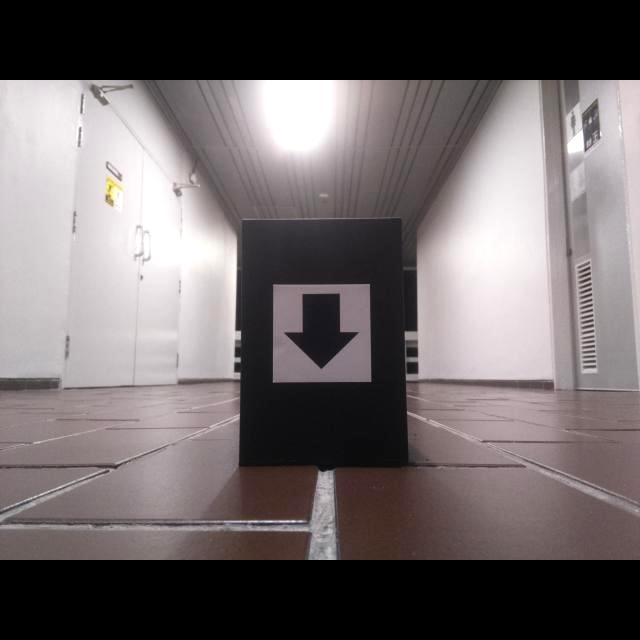DOWN: (282, 293, 360, 371)
